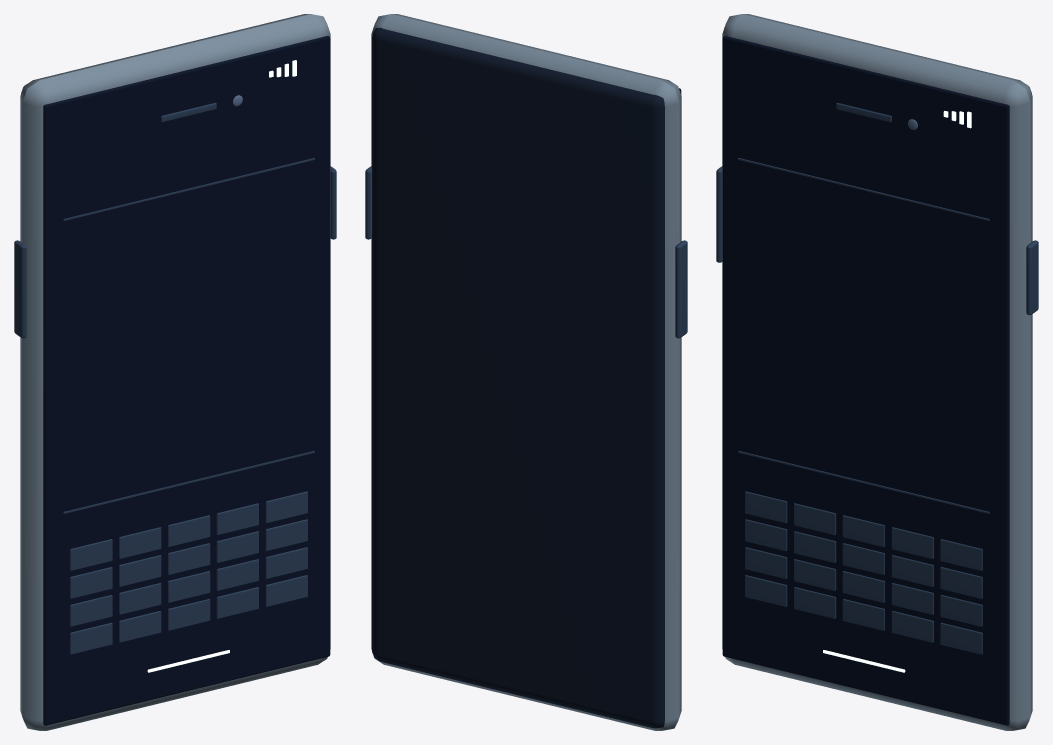
The model's file is phone.glb.
3 views of the same model, side by side, from view 1: azimuth 30°, elevation 25°; view 2: azimuth 150°, elevation 25°; view 3: azimuth 330°, elevation 25° (orthographic).
Visible parts, largest first — view 1: Phone display glass, Phone machined frame, Volume rocker, Kana key.005, Kana key.006, Kana key.009, Kana key.014, Kana key.019, Kana key, Kana key.001, Kana key.002, Kana key.003 (+13 smaller); view 2: Phone ceramic back, Phone machined frame, Volume rocker; view 3: Phone display glass, Phone machined frame, Kana key.005, Kana key.008, Kana key.009, Kana key.010, Kana key.015, Kana key, Kana key.001, Kana key.002, Kana key.003, Kana key.004 (+14 smaller).
Boxes of the visible parts, x1,y1,x2,y2 form: Phone display glass: (43, 36, 330, 725); Phone machined frame: (20, 14, 330, 730); Volume rocker: (14, 240, 26, 338); Kana key.005: (70, 567, 112, 598); Kana key.006: (119, 555, 161, 586); Kana key.009: (265, 519, 307, 551); Kana key.014: (265, 547, 307, 578); Kana key.019: (265, 575, 307, 606); Kana key: (70, 539, 112, 570); Kana key.001: (119, 527, 161, 558); Kana key.002: (168, 515, 210, 546); Kana key.003: (216, 503, 258, 535); Phone ceramic back: (372, 27, 664, 728); Phone machined frame: (371, 14, 681, 730); Volume rocker: (675, 240, 687, 338); Phone display glass: (722, 36, 1009, 725); Phone machined frame: (722, 14, 1032, 730); Kana key.005: (745, 519, 787, 551); Kana key.008: (891, 555, 933, 586); Kana key.009: (940, 567, 982, 598); Kana key.010: (745, 547, 787, 578); Kana key.015: (745, 575, 787, 606); Kana key: (745, 491, 787, 523); Kana key.001: (794, 503, 836, 535); Kana key.002: (842, 515, 884, 546); Kana key.003: (891, 527, 933, 558); Kana key.004: (940, 539, 982, 570).
Size of the model in its own units: 1.42 by 2.8 by 0.203.
